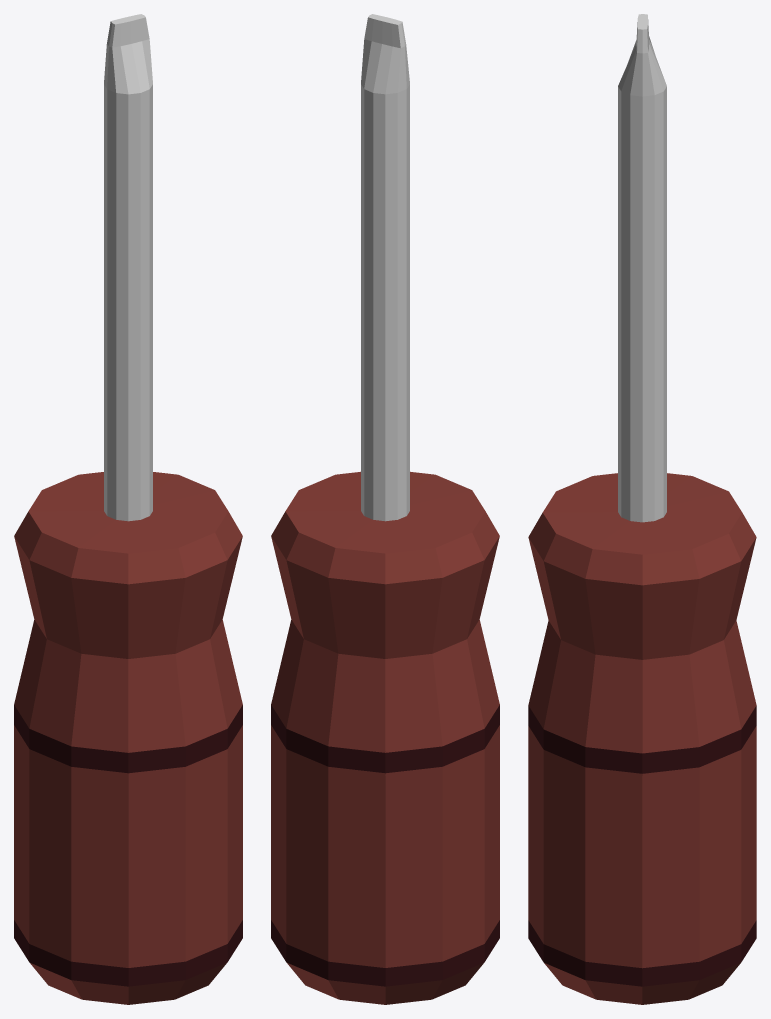
File: Screwdriver.fbx
The picture shows the model from 3 angles, left to right: view 1: azimuth 30°, elevation 25°; view 2: azimuth 150°, elevation 25°; view 3: azimuth 270°, elevation 25°; orthographic projection.
Visible parts, largest first — view 1: Body, Metal; view 2: Body, Metal; view 3: Body, Metal.
Part boxes in pixels (box(x1,y1,x2,y2)): Body: box(14, 472, 242, 1004); Metal: box(104, 14, 152, 521); Body: box(271, 471, 499, 1004); Metal: box(361, 14, 409, 521); Body: box(528, 473, 756, 1004); Metal: box(618, 14, 666, 522).
Size of the model in its own units: 200 by 913 by 200.
